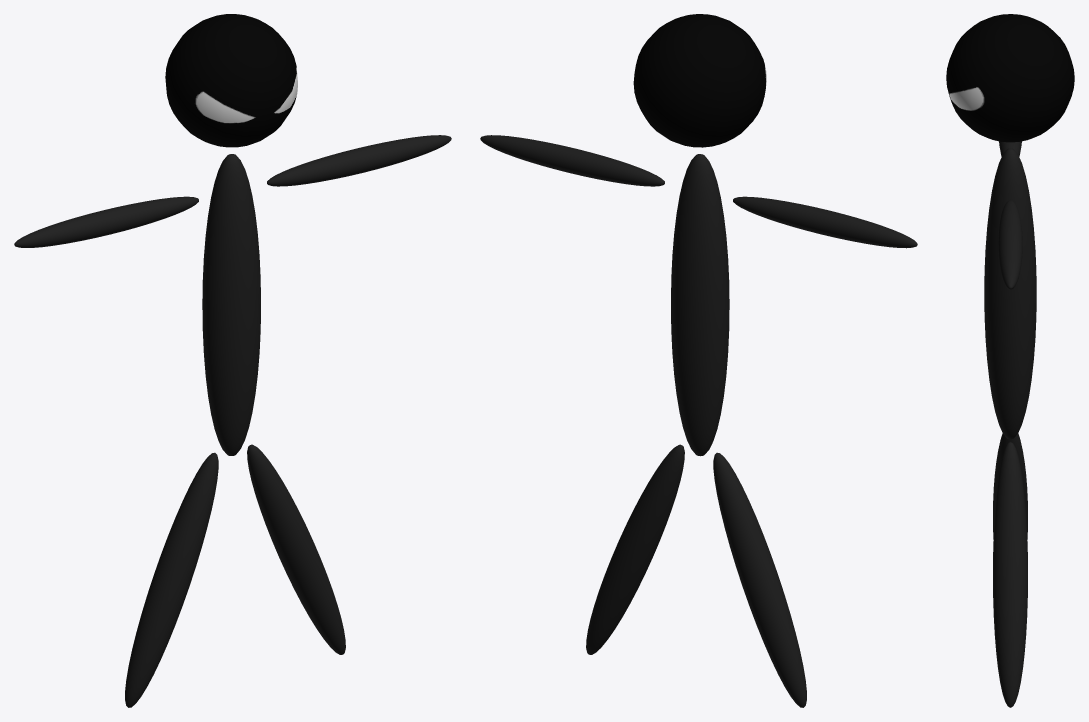
The model's file is player_1.obj.
3 renders of one model, left to right at view 1: azimuth 30°, elevation 25°; view 2: azimuth 150°, elevation 25°; view 3: azimuth 270°, elevation 25°, orthographic. The views are drawn at different scales.
Visible parts, largest first — view 1: pSphere1, pSphere6, pSphere5, pSphere4, pSphere2, pSphere3; view 2: pSphere1, pSphere6, pSphere5, pSphere4, pSphere2, pSphere3; view 3: pSphere6, pSphere1, pSphere4, pSphere2, pSphere5, pSphere3.
Part boxes in pixels (x1,y1,x2,y2): pSphere1: (202, 154, 260, 455); pSphere6: (165, 14, 297, 147); pSphere5: (125, 452, 218, 707); pSphere4: (247, 444, 345, 654); pSphere2: (267, 135, 451, 186); pSphere3: (14, 196, 198, 247); pSphere1: (671, 154, 729, 456); pSphere6: (633, 14, 766, 147); pSphere5: (713, 452, 806, 707); pSphere4: (586, 444, 684, 654); pSphere2: (480, 135, 664, 186); pSphere3: (733, 196, 917, 248); pSphere6: (946, 14, 1074, 142); pSphere1: (984, 148, 1036, 439); pSphere4: (993, 442, 1027, 707); pSphere2: (998, 200, 1022, 289); pSphere5: (993, 433, 1027, 539); pSphere3: (999, 141, 1021, 156).
Bounding box in the file's own units: 1.43 × 2.07 × 0.3777.
2 materials, 1 textured.
